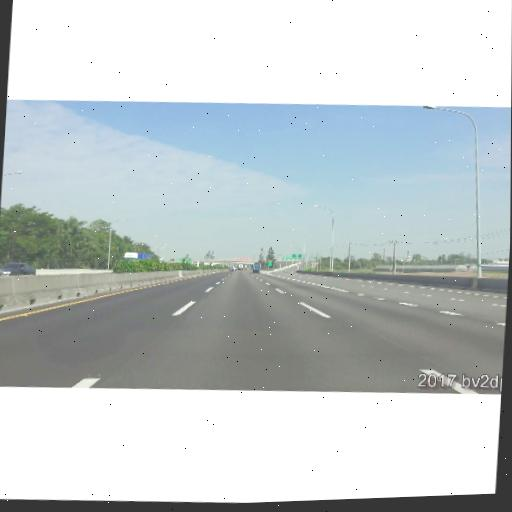Car: (0, 259, 35, 278), (252, 262, 261, 273), (238, 264, 243, 271), (284, 268, 288, 272), (230, 266, 234, 270)
